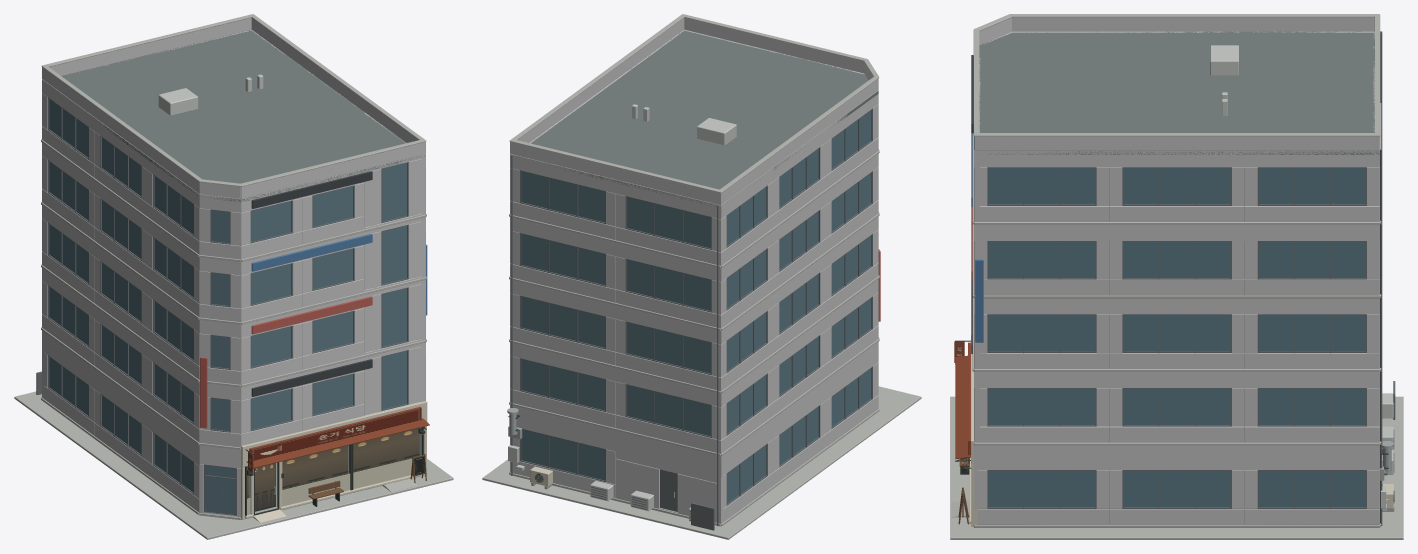
File: SIMUS_Commercial_Restaurant.fbx
The picture shows the model from 3 angles, left to right: view 1: azimuth 30°, elevation 25°; view 2: azimuth 150°, elevation 25°; view 3: azimuth 270°, elevation 25°; orthographic projection. The views are drawn at different scales.
Parts seen in each view (by area): view 1: ASSET_COMMERCIAL_01_OLD_MULTI_TENANT__R02_SOURCE_C01_L0_E3_F (×50), ASSET_COMMERCIAL_01_OLD_MULTI_TENANT__R02_SOURCE_C01_L0_E0_F (×31), ASSET_COMMERCIAL_01_OLD_MULTI_TENANT__R02_SOURCE_C01_L0_Roof (×2), ASSET_COMMERCIAL_01_OLD_MULTI_TENANT__R02_SOURCE_C01_L0_E4_F (×12), ASSET_COMMERCIAL_01_OLD_MULTI_TENANT__R02_SOURCE_C01_L0_Site, ASSET_COMMERCIAL_01_OLD_MULTI_TENANT__R02_SOURCE_C01_L0_E2_P (×2), ASSET_COMMERCIAL_01_OLD_MULTI_TENANT__R02_SOURCE_C01_L0_E0_P (×2), ASSET_COMMERCIAL_01_OLD_MULTI_TENANT__R02_SOURCE_C01_L0_E1_P (×2), ASSET_COMMERCIAL_01_OLD_MULTI_TENANT__R02_SOURCE_C01_L0_E3_P (×2), RESTAURANT_Replaceable_Main_Sign, RESTAURANT_Warm_Window_Illusion_001, RESTAURANT_Warm_Window_Illusion_002 (+14 smaller); view 2: ASSET_COMMERCIAL_01_OLD_MULTI_TENANT__R02_SOURCE_C01_L0_E2_F (×34), ASSET_COMMERCIAL_01_OLD_MULTI_TENANT__R02_SOURCE_C01_L0_E3_F (×50), ASSET_COMMERCIAL_01_OLD_MULTI_TENANT__R02_SOURCE_C01_L0_Roof (×2), ASSET_COMMERCIAL_01_OLD_MULTI_TENANT__R02_SOURCE_C01_L0_Site, ASSET_COMMERCIAL_01_OLD_MULTI_TENANT__R02_SOURCE_C01_L0_E2_P (×2), ASSET_COMMERCIAL_01_OLD_MULTI_TENANT__R02_SOURCE_C01_L0_E1_P (×2), ASSET_COMMERCIAL_01_OLD_MULTI_TENANT__R02_SOURCE_C01_L0_E0_P (×2), ASSET_COMMERCIAL_01_OLD_MULTI_TENANT__R02_SOURCE_C01_L0_E3_P (×2), ASSET_COMMERCIAL_01_OLD_MULTI_TENANT__R02_SOURCE_C01_L0_Drai (×2), ASSET_COMMERCIAL_01_OLD_MULTI_TENANT__R02_SOURCE_C01_L0_Serv, ASSET_COMMERCIAL_01_OLD_MULTI_TENANT__R02_SOURCE_C01_L0_Rear; view 3: ASSET_COMMERCIAL_01_OLD_MULTI_TENANT__R02_SOURCE_C01_L0_E1_F (×80), ASSET_COMMERCIAL_01_OLD_MULTI_TENANT__R02_SOURCE_C01_L0_Roof (×2), ASSET_COMMERCIAL_01_OLD_MULTI_TENANT__R02_SOURCE_C01_L0_Site, ASSET_COMMERCIAL_01_OLD_MULTI_TENANT__R02_SOURCE_C01_L0_E1_P (×2), ASSET_COMMERCIAL_01_OLD_MULTI_TENANT__R02_SOURCE_C01_L0_E3_P (×2), RESTAURANT_Practical_Canopy, ASSET_COMMERCIAL_01_OLD_MULTI_TENANT__R02_SOURCE_C01_L0_Drai, ASSET_COMMERCIAL_01_OLD_MULTI_TENANT__R02_SOURCE_C01_L0_E2_P, ASSET_COMMERCIAL_01_OLD_MULTI_TENANT__R02_SOURCE_SIGN_C01_08, ASSET_COMMERCIAL_01_OLD_MULTI_TENANT__R02_SOURCE_C01_L0_E0_P.
Part boxes in pixels (x1,y1,x2,y2): ASSET_COMMERCIAL_01_OLD_MULTI_TENANT__R02_SOURCE_C01_L0_E3_F (×50): (41,80,199,514); ASSET_COMMERCIAL_01_OLD_MULTI_TENANT__R02_SOURCE_C01_L0_E0_F (×31): (241,158,426,445); ASSET_COMMERCIAL_01_OLD_MULTI_TENANT__R02_SOURCE_C01_L0_Roof (×2): (61,30,425,201); ASSET_COMMERCIAL_01_OLD_MULTI_TENANT__R02_SOURCE_C01_L0_E4_F (×12): (199,194,241,514); ASSET_COMMERCIAL_01_OLD_MULTI_TENANT__R02_SOURCE_C01_L0_Site: (14,391,453,539); ASSET_COMMERCIAL_01_OLD_MULTI_TENANT__R02_SOURCE_C01_L0_E2_P (×2): (42,14,253,78); ASSET_COMMERCIAL_01_OLD_MULTI_TENANT__R02_SOURCE_C01_L0_E0_P (×2): (240,139,426,198); ASSET_COMMERCIAL_01_OLD_MULTI_TENANT__R02_SOURCE_C01_L0_E1_P (×2): (250,14,426,152); ASSET_COMMERCIAL_01_OLD_MULTI_TENANT__R02_SOURCE_C01_L0_E3_P (×2): (41,65,202,193); RESTAURANT_Replaceable_Main_Sign: (251,408,421,460); RESTAURANT_Warm_Window_Illusion_001: (282,445,348,489); RESTAURANT_Warm_Window_Illusion_002: (353,428,419,472); ASSET_COMMERCIAL_01_OLD_MULTI_TENANT__R02_SOURCE_C01_L0_E2_F (×34): (509,154,723,523); ASSET_COMMERCIAL_01_OLD_MULTI_TENANT__R02_SOURCE_C01_L0_E3_F (×50): (716,90,879,526); ASSET_COMMERCIAL_01_OLD_MULTI_TENANT__R02_SOURCE_C01_L0_Roof (×2): (531,30,878,205); ASSET_COMMERCIAL_01_OLD_MULTI_TENANT__R02_SOURCE_C01_L0_Site: (482,386,921,539); ASSET_COMMERCIAL_01_OLD_MULTI_TENANT__R02_SOURCE_C01_L0_E2_P (×2): (509,140,722,204); ASSET_COMMERCIAL_01_OLD_MULTI_TENANT__R02_SOURCE_C01_L0_E1_P (×2): (509,14,685,154); ASSET_COMMERCIAL_01_OLD_MULTI_TENANT__R02_SOURCE_C01_L0_E0_P (×2): (681,14,867,73); ASSET_COMMERCIAL_01_OLD_MULTI_TENANT__R02_SOURCE_C01_L0_E3_P (×2): (719,76,878,204); ASSET_COMMERCIAL_01_OLD_MULTI_TENANT__R02_SOURCE_C01_L0_Drai (×2): (511,155,718,526); ASSET_COMMERCIAL_01_OLD_MULTI_TENANT__R02_SOURCE_C01_L0_Serv: (660,469,677,511); ASSET_COMMERCIAL_01_OLD_MULTI_TENANT__R02_SOURCE_C01_L0_Rear: (691,502,714,530); ASSET_COMMERCIAL_01_OLD_MULTI_TENANT__R02_SOURCE_C01_L0_E1_F (×80): (974,150,1379,527); ASSET_COMMERCIAL_01_OLD_MULTI_TENANT__R02_SOURCE_C01_L0_Roof (×2): (979,31,1379,154); ASSET_COMMERCIAL_01_OLD_MULTI_TENANT__R02_SOURCE_C01_L0_Site: (950,396,1403,539); ASSET_COMMERCIAL_01_OLD_MULTI_TENANT__R02_SOURCE_C01_L0_E1_P (×2): (974,133,1379,150); ASSET_COMMERCIAL_01_OLD_MULTI_TENANT__R02_SOURCE_C01_L0_E3_P (×2): (1010,14,1379,31); RESTAURANT_Practical_Canopy: (955,355,970,459); ASSET_COMMERCIAL_01_OLD_MULTI_TENANT__R02_SOURCE_C01_L0_Drai: (1380,149,1382,525); ASSET_COMMERCIAL_01_OLD_MULTI_TENANT__R02_SOURCE_C01_L0_E2_P: (1374,14,1380,135); ASSET_COMMERCIAL_01_OLD_MULTI_TENANT__R02_SOURCE_SIGN_C01_08: (975,259,983,342); ASSET_COMMERCIAL_01_OLD_MULTI_TENANT__R02_SOURCE_C01_L0_E0_P: (973,29,979,135).
Size of the model in its own units: 12.6 by 16.49 by 17.1.
